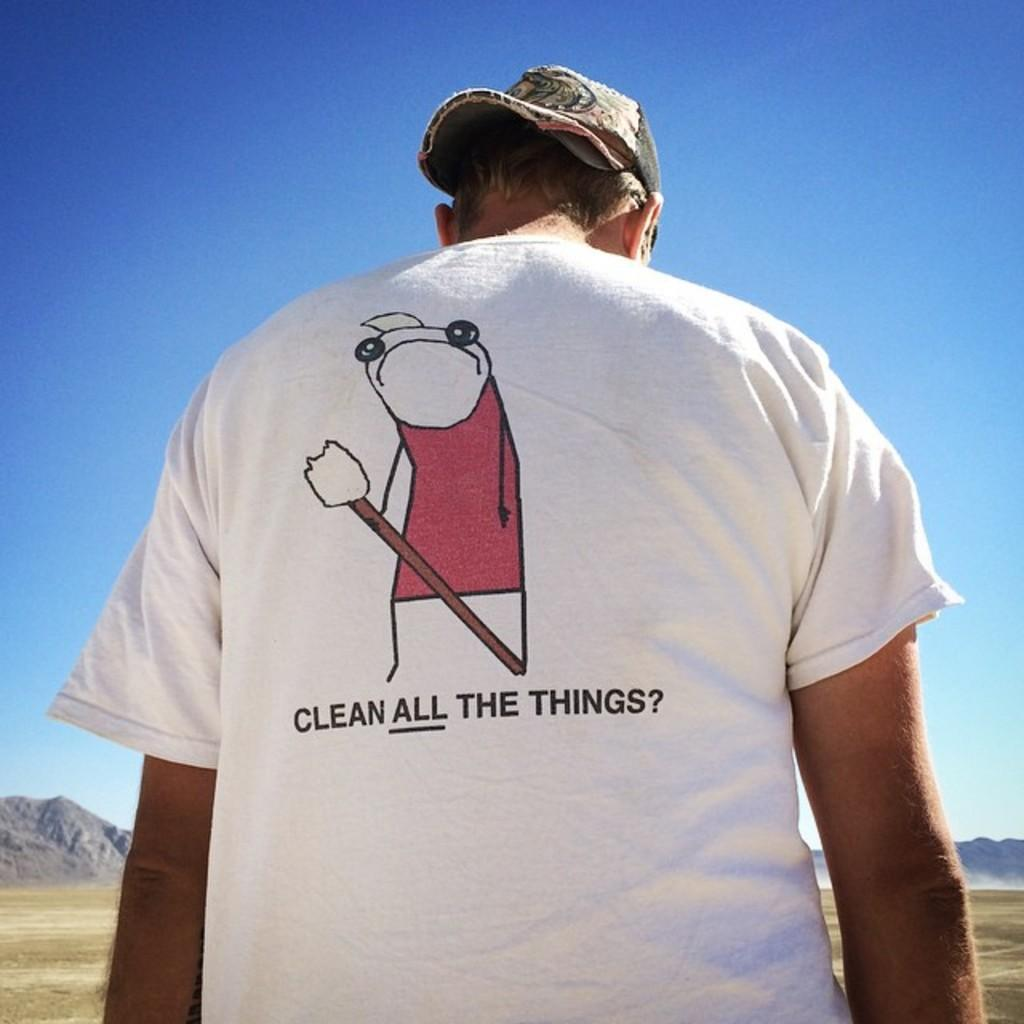Hat: (416, 62, 658, 196)
